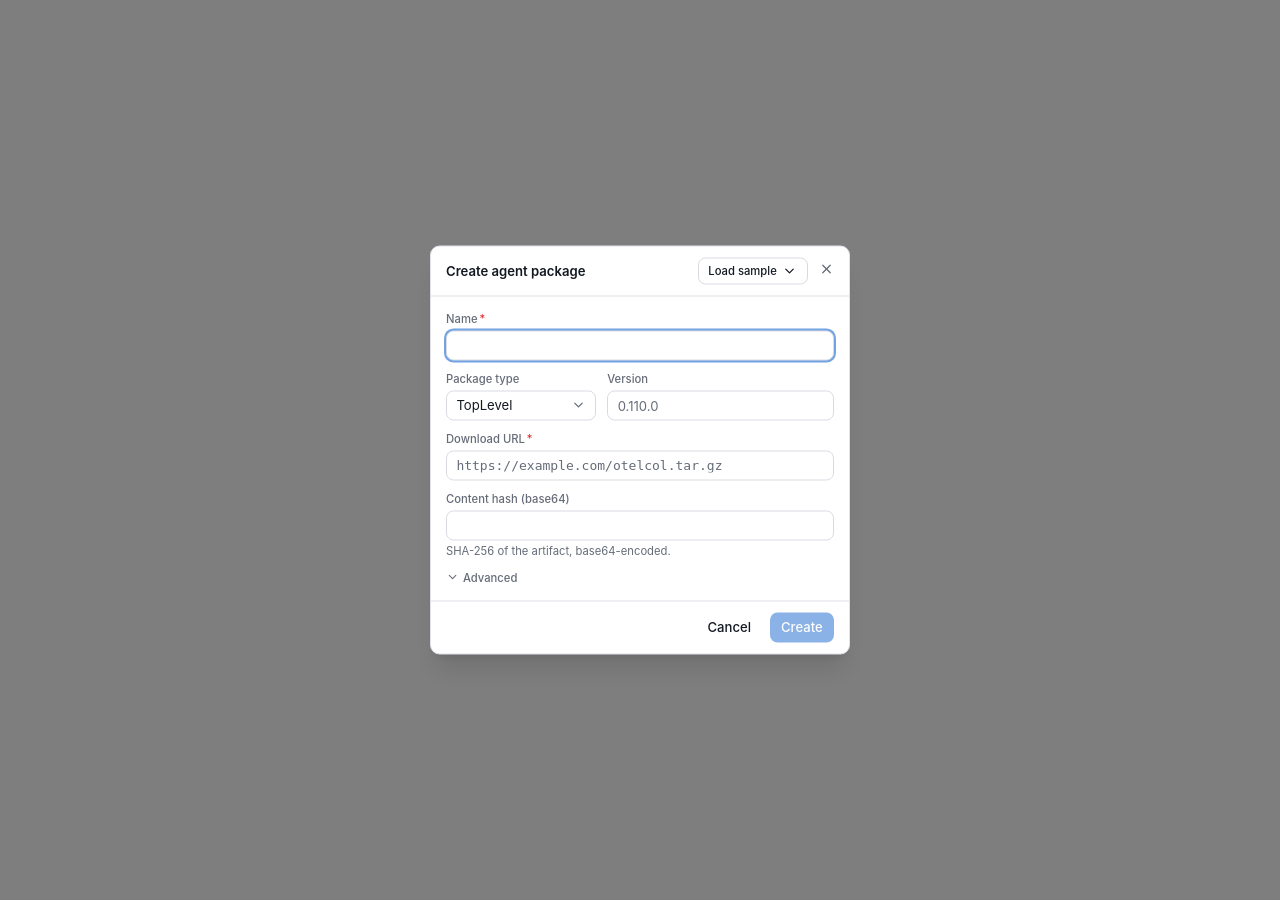
it: AgentPackageEditDialog › surfaces the server problem detail when the save is rejected
Type "dup" into the field labelled "Name" at (640, 345), box [446,330,834,360]
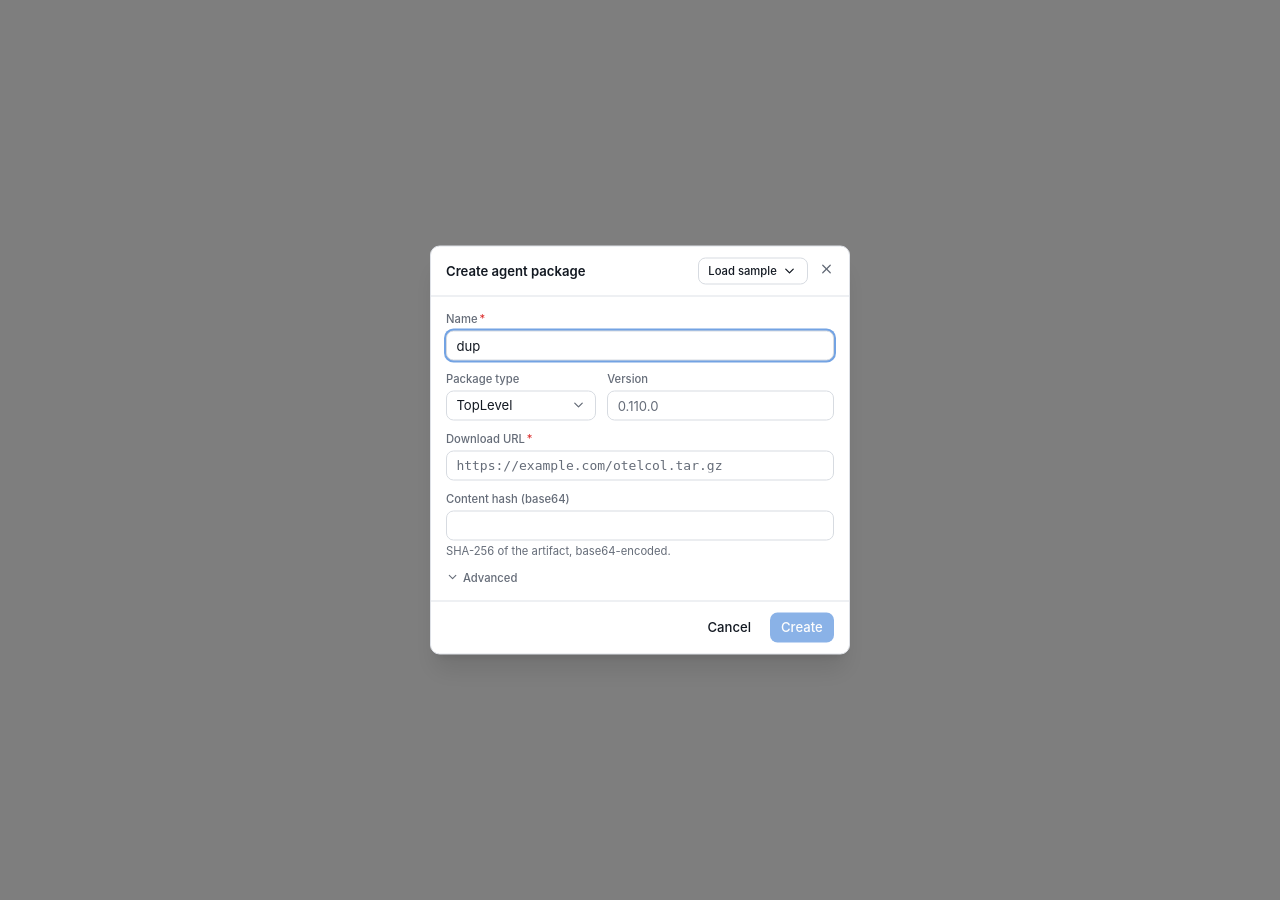
Type "https://example.com/a.tgz" into the field labelled "Download URL" at (640, 465), box [446,450,834,480]
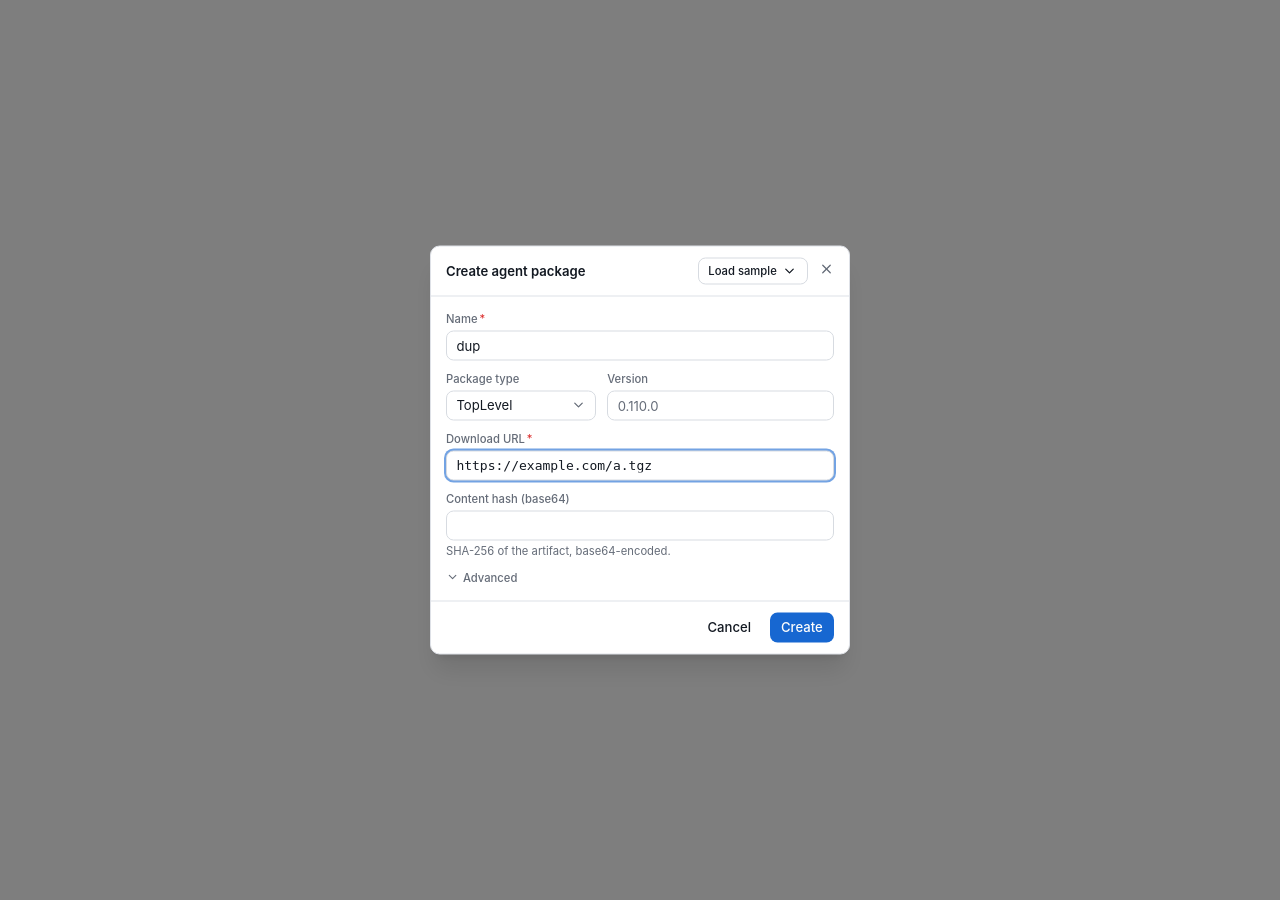
Click the button "Create" at (802, 627), box [770,612,834,642]
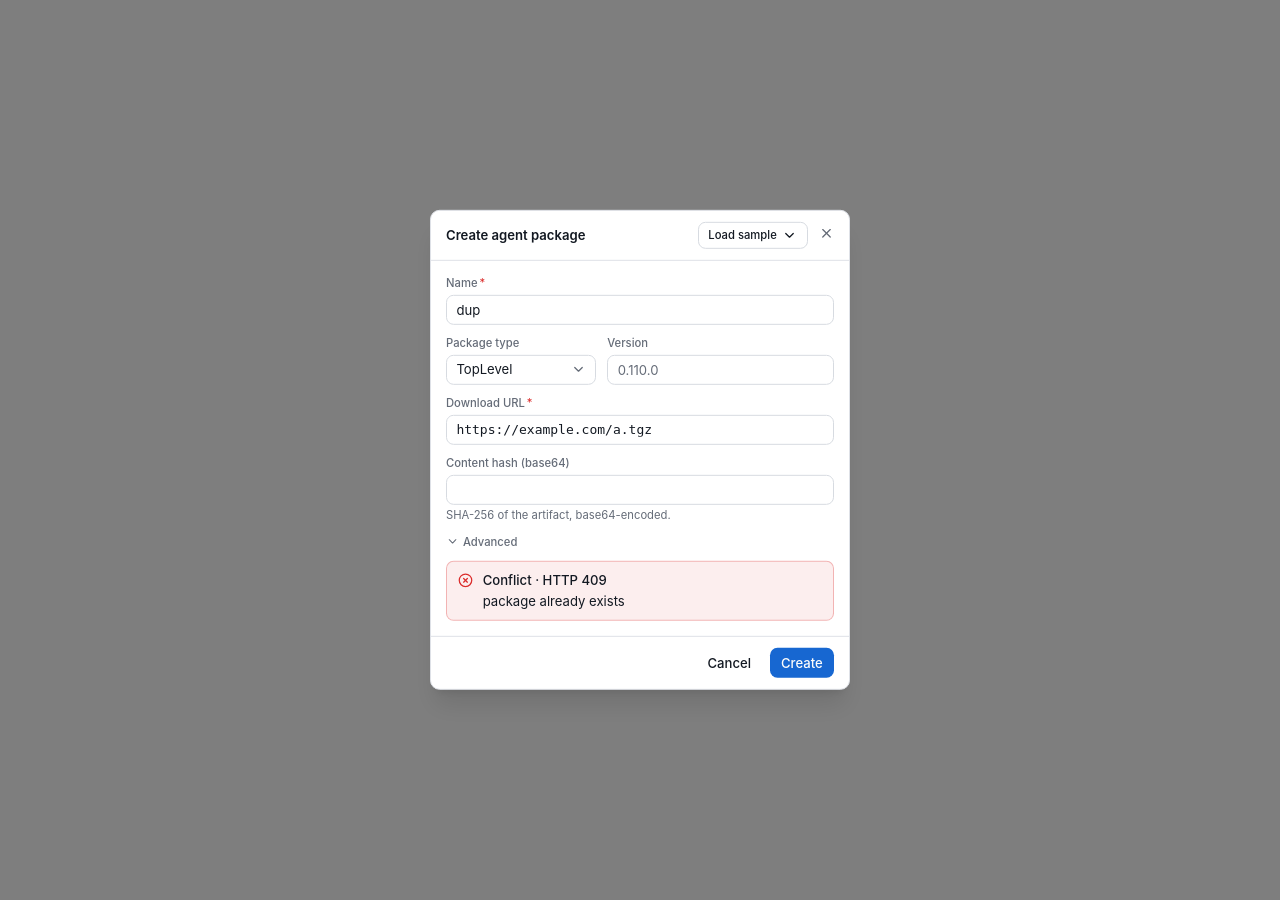
Expected: the text "package already exists" is shown, [483,593,625,609]
Expected: the text "Conflict · HTTP 409" is shown, [483,572,607,588]
